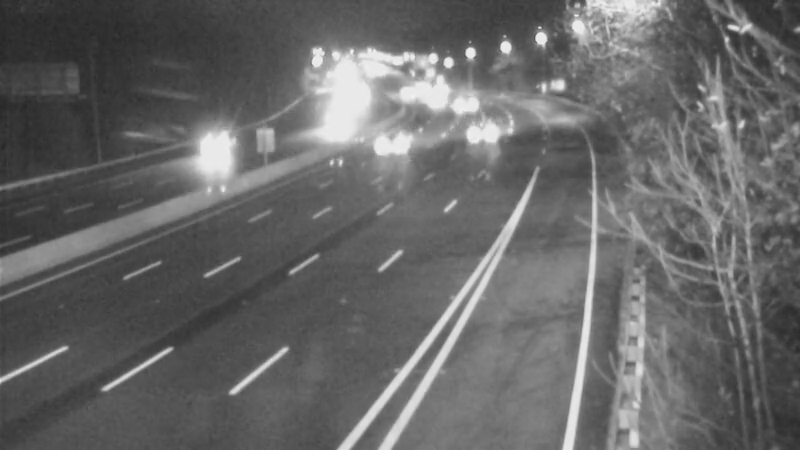vehicle: (379, 69, 429, 119), (408, 72, 458, 122), (442, 82, 492, 132), (462, 102, 512, 152), (368, 119, 418, 169), (182, 119, 232, 169)
